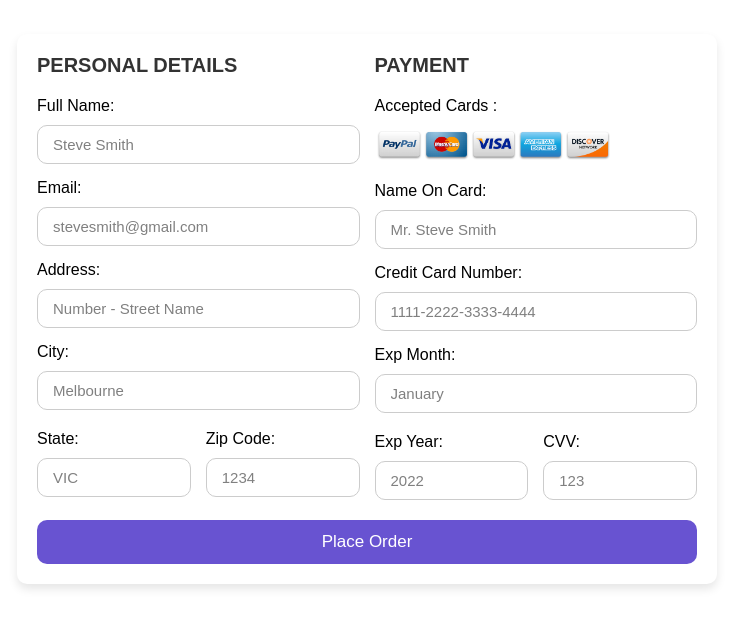
Test case: error message if empty field
// Simulate user input
In the number field with placeholder "1111-2222-3333-4444": (536,312) x1=374 y1=292 x2=697 y2=331, type "1234567890123456"
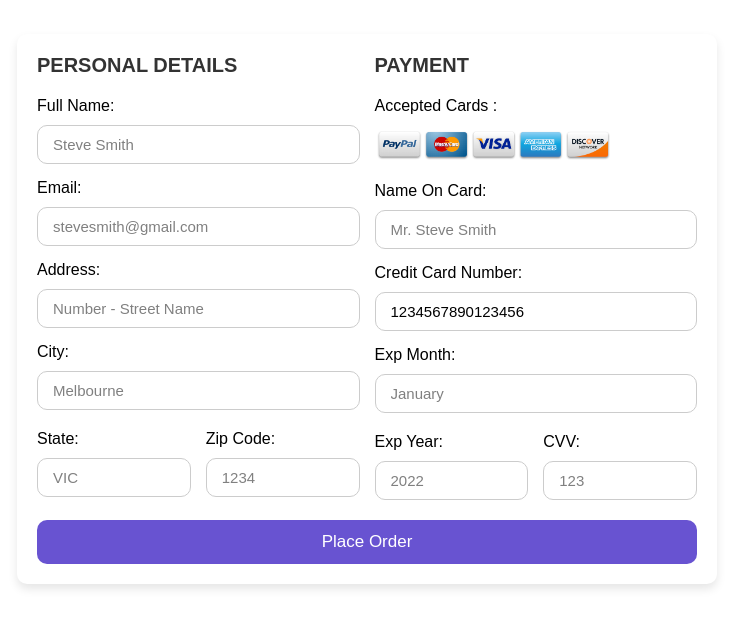
In the field with placeholder "January": (536,394) x1=374 y1=374 x2=697 y2=413, type "Febuary"
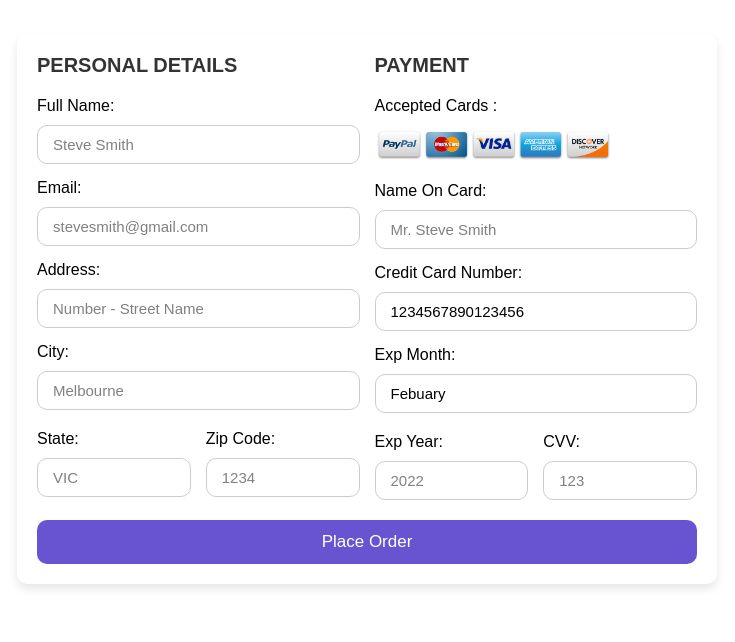
In the field with placeholder "123": (620,481) x1=543 y1=461 x2=697 y2=500, type "547"
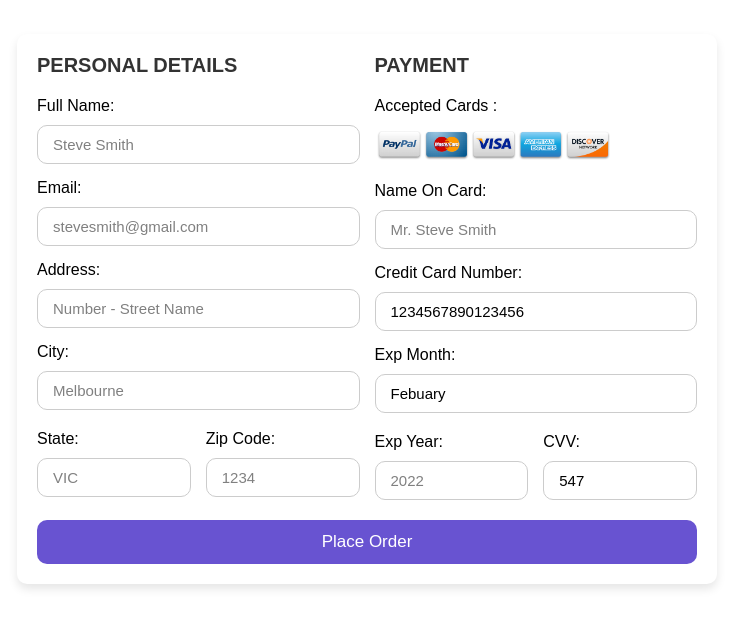
In the field with placeholder "Melbourne": (198,390) x1=37 y1=371 x2=360 y2=410, type "Townsville"
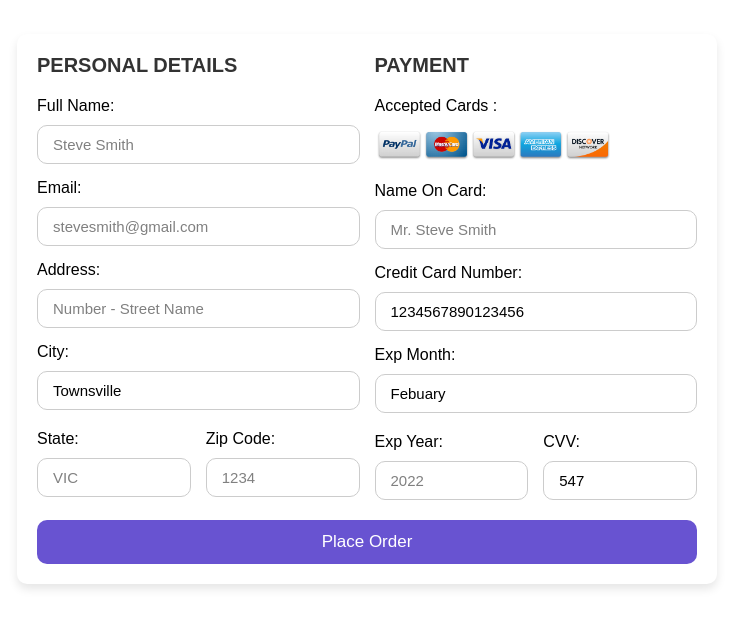
Click the button "Place Order": (367,542) x1=37 y1=520 x2=697 y2=564
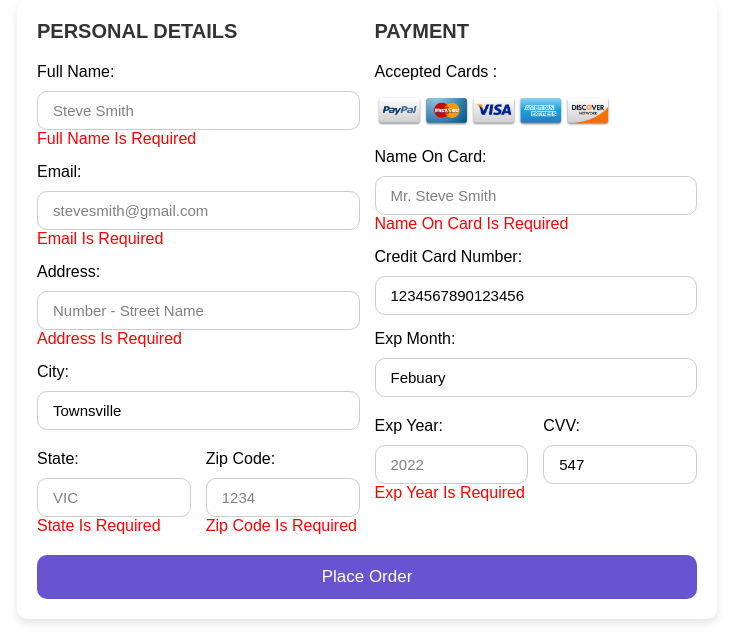
Expected: the text "name on card is required" is shown, x1=374 y1=215 x2=568 y2=232
Expected: the text "exp year is required" is shown, x1=374 y1=484 x2=528 y2=502
